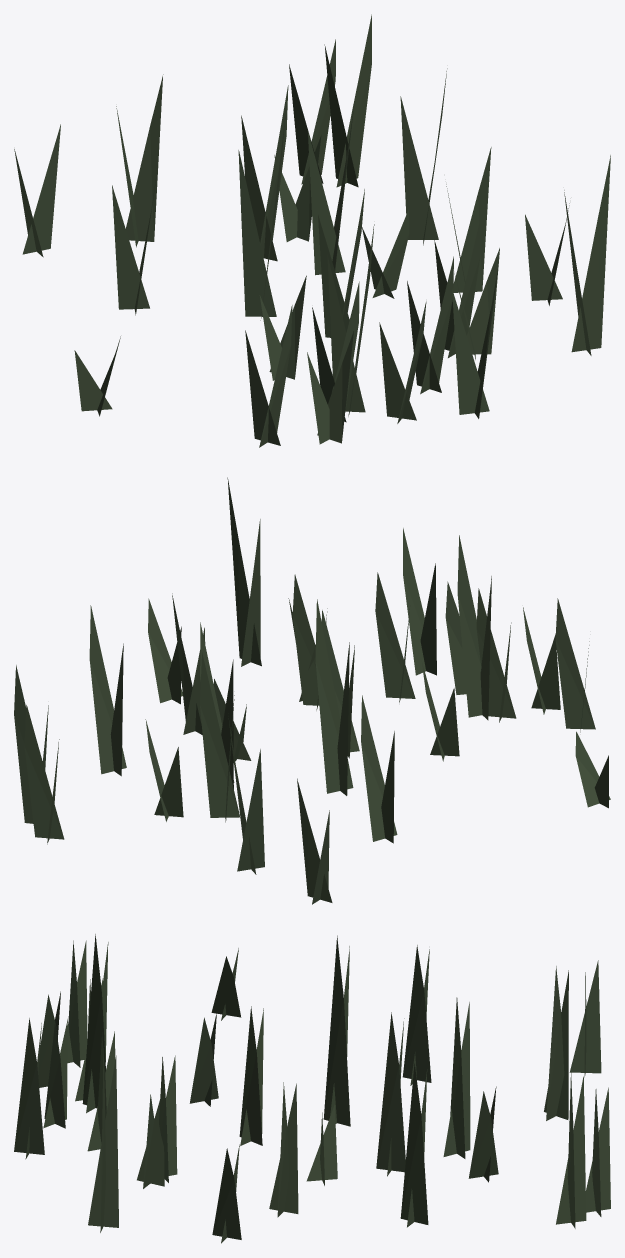
File: Grass_Patch_02.glb
The picture shows the model from 3 angles, top to bottom: view 1: azimuth 30°, elevation 25°; view 2: azimuth 150°, elevation 25°; view 3: azimuth 270°, elevation 25°; orthographic projection. The views are drawn at different scales.
Parts seen in each view (by area): view 1: Grass_Patch_02; view 2: Grass_Patch_02; view 3: Grass_Patch_02.
Boxes of the visible parts, <box> form: Grass_Patch_02: <box>14,14,610,447</box>; Grass_Patch_02: <box>14,477,610,904</box>; Grass_Patch_02: <box>14,934,610,1243</box>.
Size of the model in its own units: 0.9015 by 0.3467 by 0.9376.
